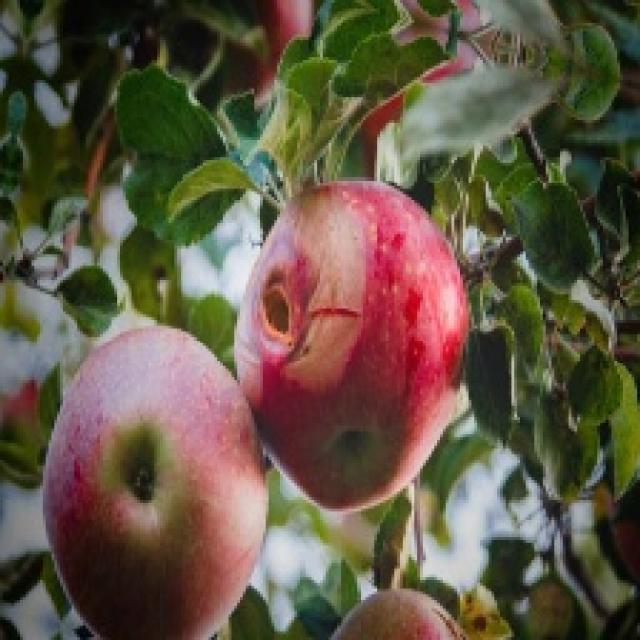rotten_apple: (242, 184, 459, 506)
